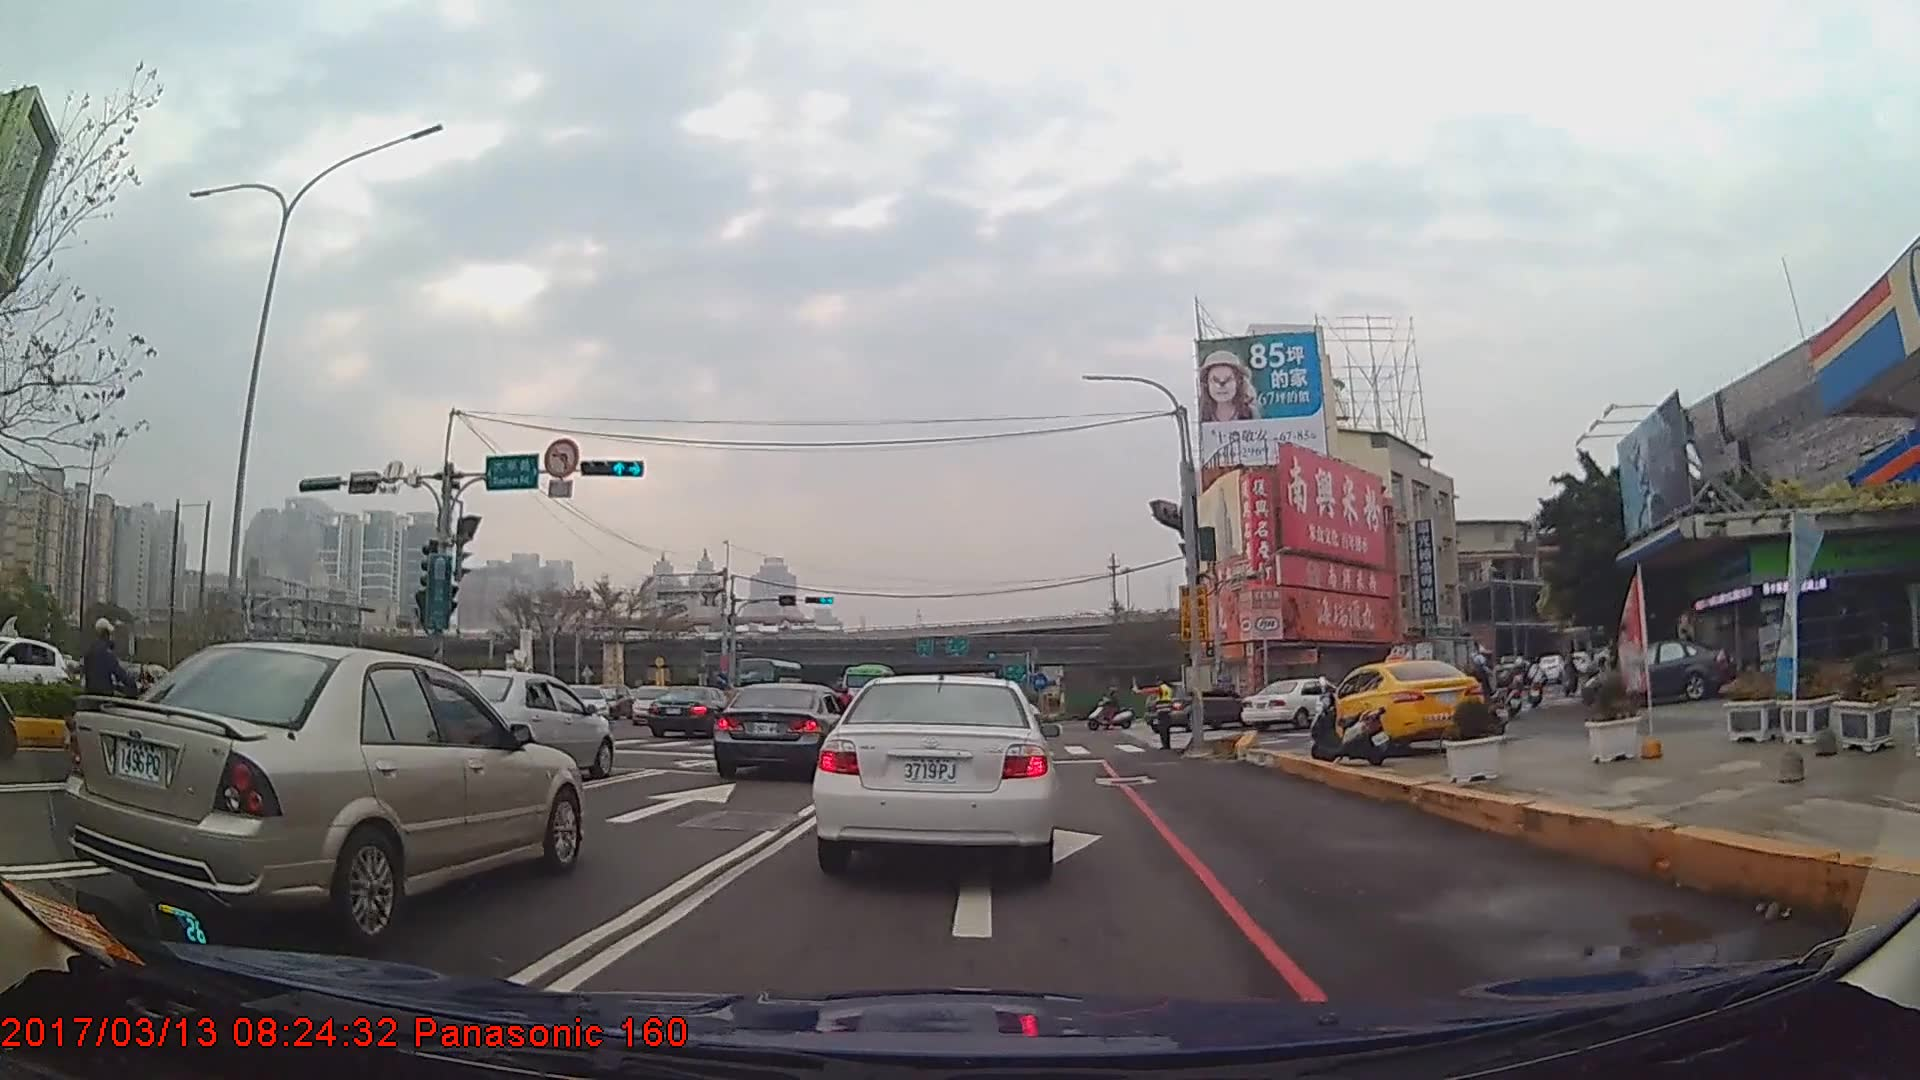pedestrian: (1129, 677, 1176, 754)
rider: (64, 616, 159, 776), (1464, 655, 1506, 738), (1089, 688, 1134, 733), (1502, 652, 1529, 720)
vehicle: (74, 633, 585, 932), (810, 673, 1057, 880), (417, 669, 615, 777), (1312, 658, 1486, 758), (711, 679, 854, 775), (1578, 637, 1732, 708), (1385, 634, 1498, 701), (1142, 679, 1256, 733), (1241, 677, 1348, 730), (0, 633, 69, 713), (648, 683, 741, 737), (838, 661, 896, 715), (631, 684, 673, 727)
